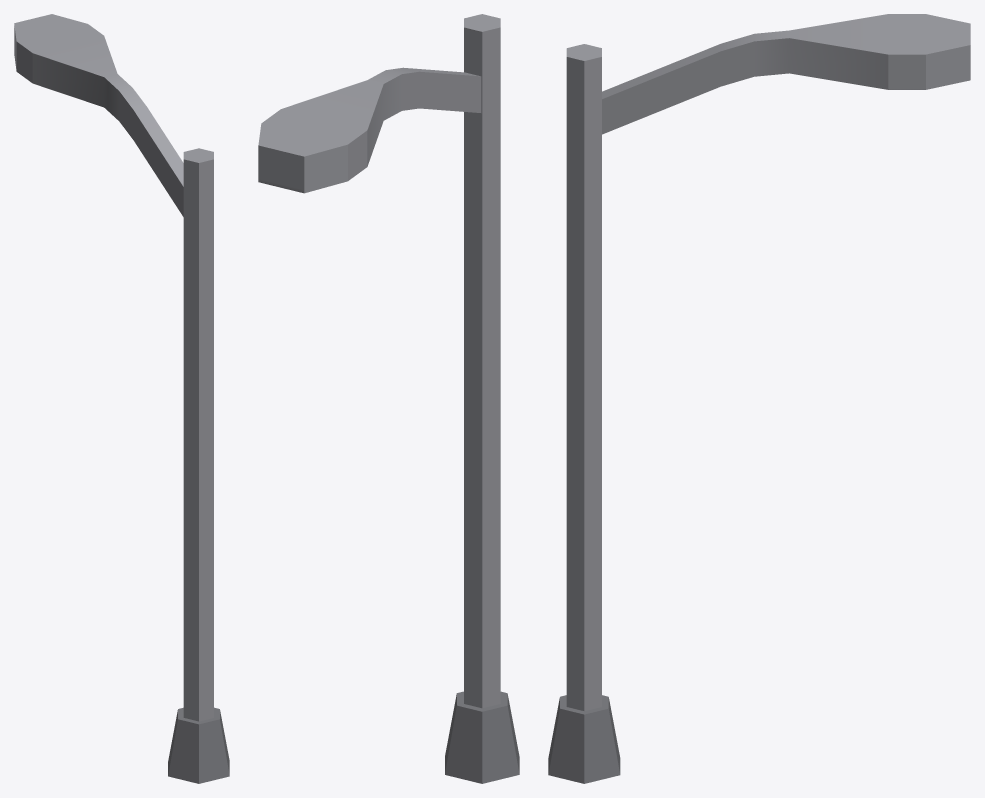
The model's file is GLLightpost.fbx.
3 renders of one model, left to right at view 1: azimuth 30°, elevation 25°; view 2: azimuth 150°, elevation 25°; view 3: azimuth 270°, elevation 25°, orthographic. The views are drawn at different scales.
Parts seen in each view (by area): view 1: Cone001; view 2: Cone001; view 3: Cone001.
Boxes of the visible parts, bbox=[...] form: Cone001: bbox=[14, 14, 229, 783]; Cone001: bbox=[258, 14, 519, 783]; Cone001: bbox=[548, 14, 970, 783].
Size of the model in its own units: 14.25 by 120 by 62.58.
